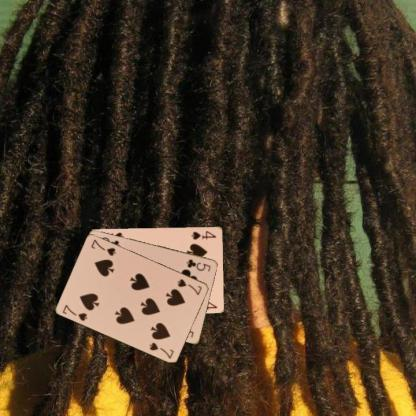4s: (189, 229, 217, 240)
5c: (184, 256, 212, 272)
7s: (174, 276, 204, 297), (60, 301, 89, 322)
